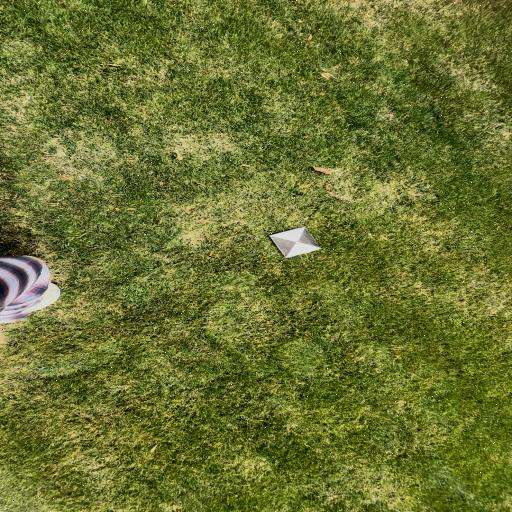target: (270, 226, 321, 258)
